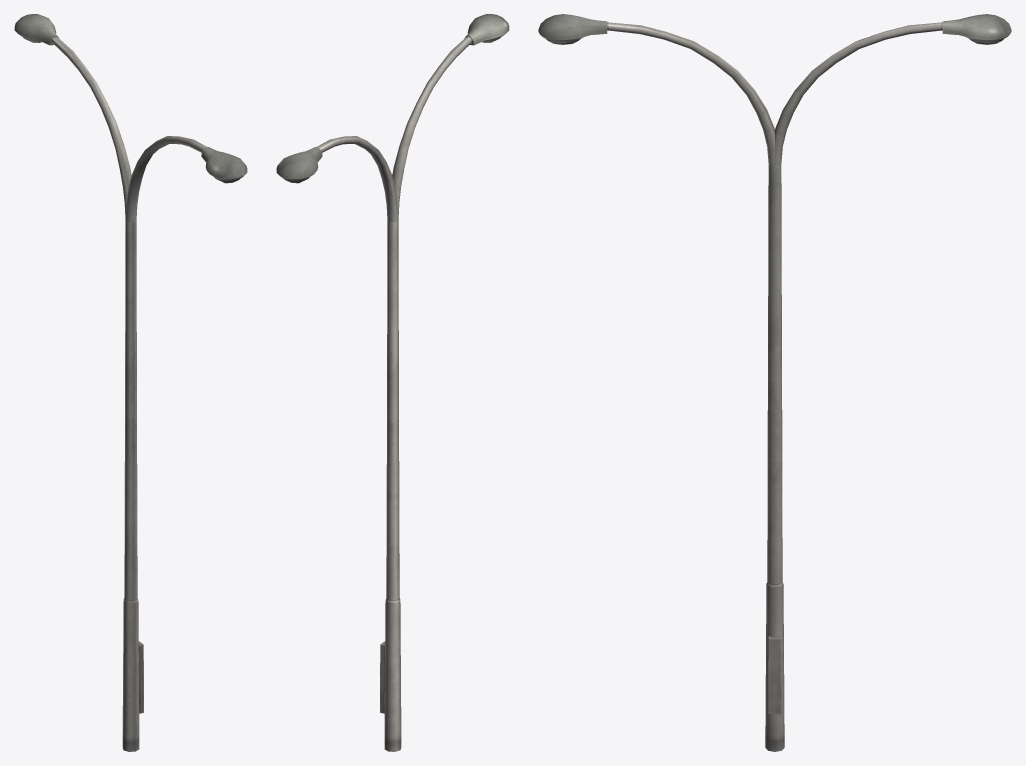
Rendered from Preset_StreetLightC.fbx.
3 views of the same model, side by side, from view 1: azimuth 30°, elevation 25°; view 2: azimuth 150°, elevation 25°; view 3: azimuth 270°, elevation 25° (orthographic). The views are drawn at different scales.
Visible parts, largest first — view 1: BodyVD, BodyHD; view 2: BodyVD, BodyHD; view 3: BodyVD, BodyHD.
Boxes of the visible parts, x1=… form: BodyVD: x1=122, y1=220, x2=143, y2=751; BodyHD: x1=14, y1=14, x2=247, y2=222; BodyVD: x1=380, y1=220, x2=401, y2=751; BodyHD: x1=276, y1=14, x2=509, y2=222; BodyVD: x1=765, y1=164, x2=784, y2=751; BodyHD: x1=538, y1=14, x2=1011, y2=166.
Bounding box in the file's own units: 56.09 × 598 × 1020.
Materials: 3 (3 with a texture image).
